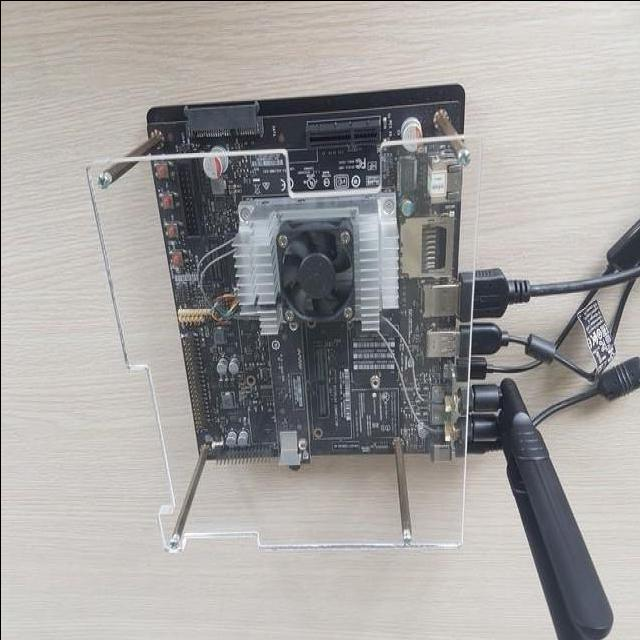Jetson TX2: (146, 83, 612, 640)
